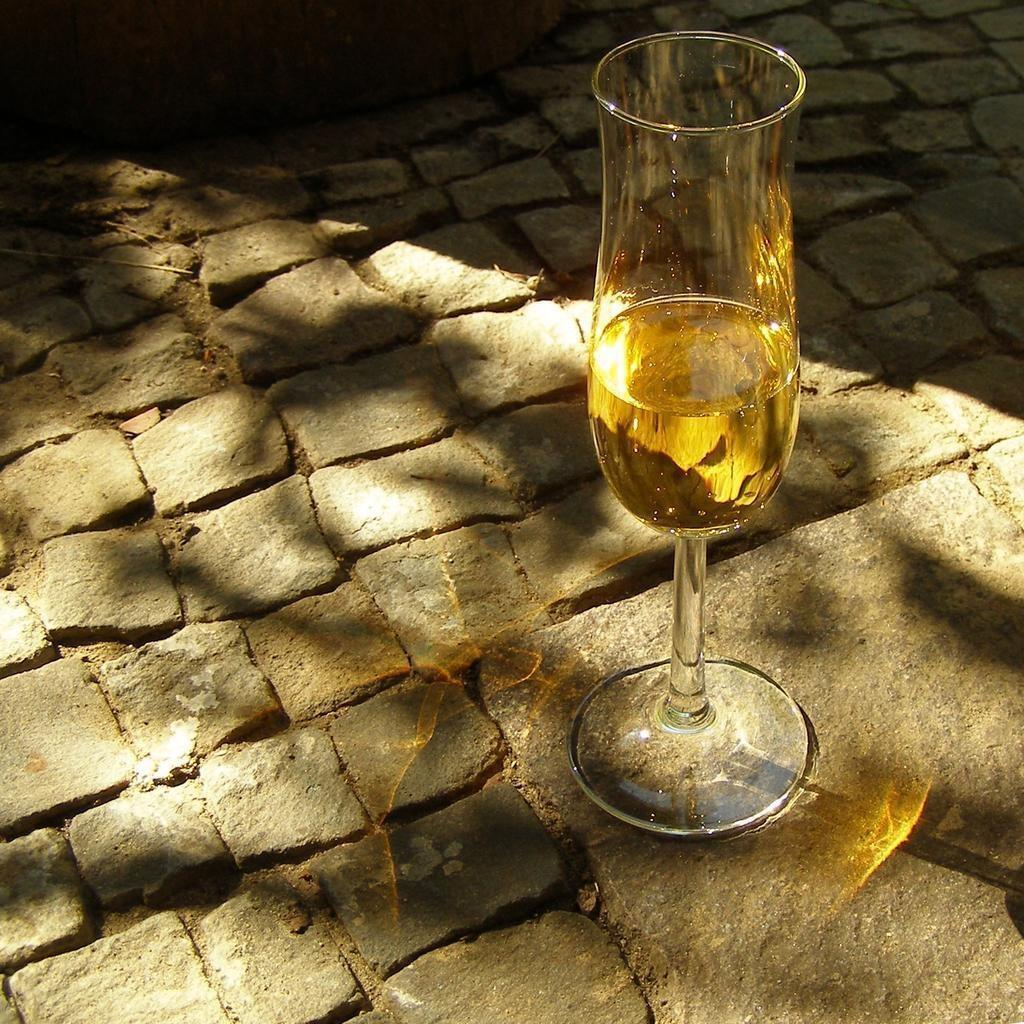glass-wine: (573, 31, 818, 844)
